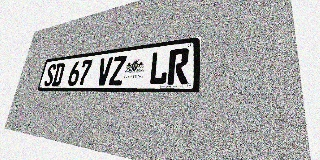6: (67, 61, 82, 86)
7: (77, 59, 93, 86)
D: (51, 63, 65, 86)
L: (148, 50, 169, 85)
R: (167, 48, 190, 84)
S: (43, 64, 57, 86)
V: (96, 57, 113, 86)
Z: (108, 55, 127, 85)
